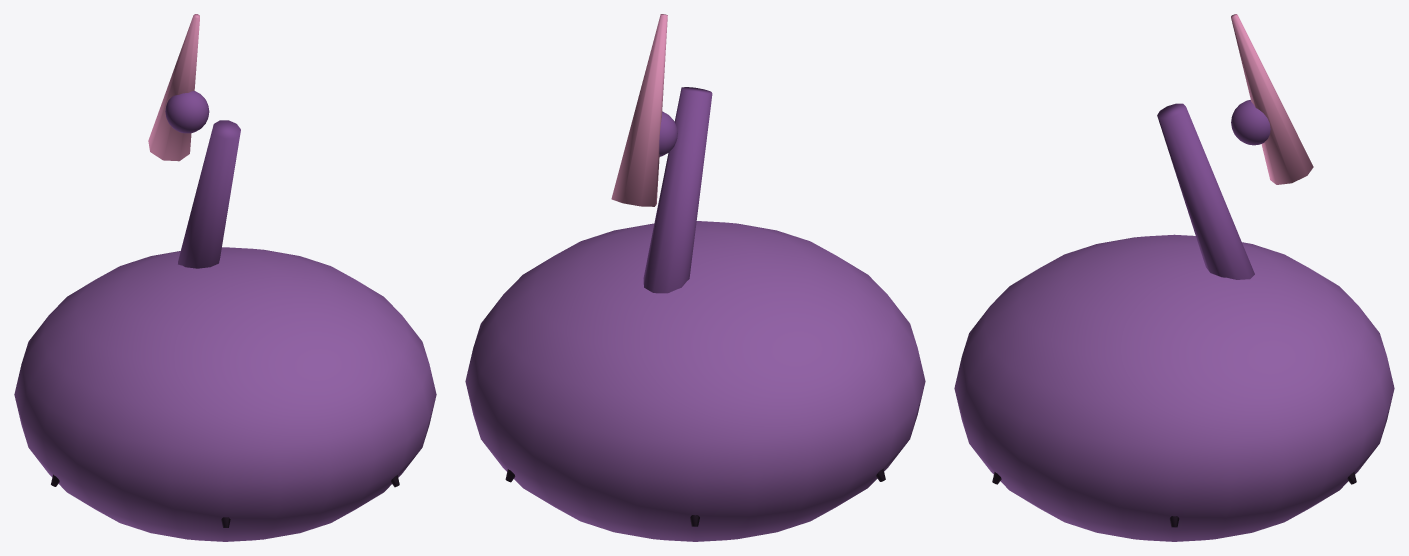
Rendered from b_spine_crawler.glb.
3 renders of one model, left to right at view 1: azimuth 30°, elevation 25°; view 2: azimuth 150°, elevation 25°; view 3: azimuth 270°, elevation 25°, orthographic. The views are drawn at different scales.
Parts seen in each view (by area): view 1: sc_base.001, sc_neck.001, sc_tip.001, sc_joint.001; view 2: sc_base.001, sc_neck.001, sc_tip.001, sc_joint.001; view 3: sc_base.001, sc_neck.001, sc_tip.001, sc_joint.001.
Part boxes in pixels (x1,y1,x2,y2): sc_base.001: (14,247,436,541); sc_neck.001: (178,120,240,268); sc_tip.001: (148,14,199,161); sc_joint.001: (165,91,209,133); sc_base.001: (465,221,925,541); sc_neck.001: (643,87,712,293); sc_tip.001: (611,14,667,206); sc_joint.001: (659,111,677,156); sc_base.001: (954,234,1394,541); sc_neck.001: (1157,103,1254,279); sc_tip.001: (1231,14,1313,184); sc_joint.001: (1231,100,1270,145).
Size of the model in its own units: 1.44 by 1.79 by 1.44.
